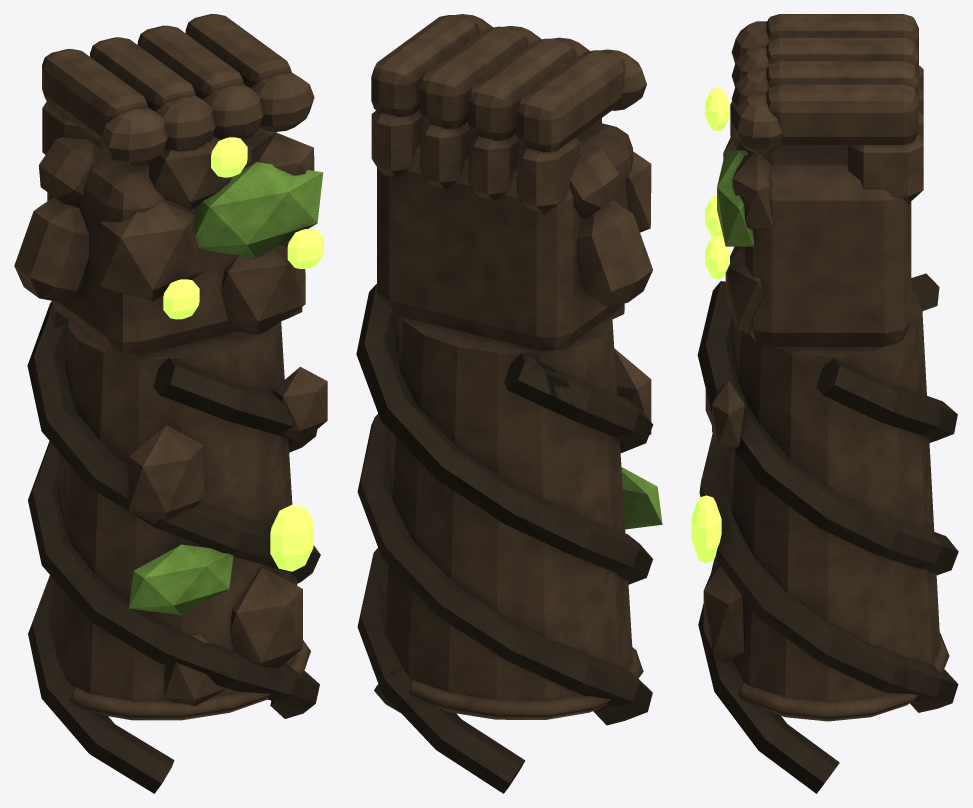
File: 05_swamp_gauntlet.fbx
3 renders of one model, left to right at view 1: azimuth 30°, elevation 25°; view 2: azimuth 150°, elevation 25°; view 3: azimuth 270°, elevation 25°, orthographic.
Parts seen in each view (by area): view 1: Weapon; view 2: Weapon; view 3: Weapon.
Part boxes in pixels (<box>): Weapon: <box>14,14,327,793</box>; Weapon: <box>356,14,662,793</box>; Weapon: <box>691,14,958,793</box>.
Bounding box in the file's own units: 21.47 × 50.4 × 17.88.
Materials: 2 (1 with a texture image).
